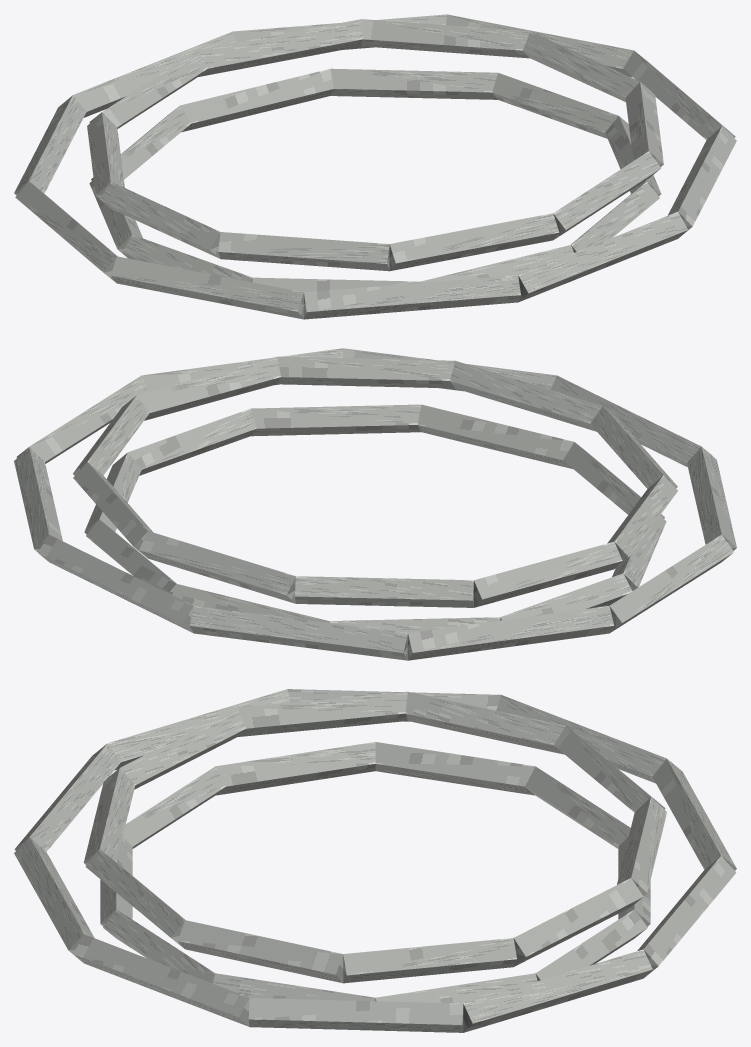
The model's file is mc_wire.glb.
3 renders of one model, top to bottom at view 1: azimuth 30°, elevation 25°; view 2: azimuth 150°, elevation 25°; view 3: azimuth 270°, elevation 25°, orthographic. The views are drawn at different scales.
Parts seen in each view (by area): view 1: block_coiled length1-1, block_coiled length1-2, block_coiled length2-0, block_coiled length2-9, block_coiled length2-5, block_coiled length1-0, block_coiled length0-8, block_coiled length2-4, block_coiled length0-7, block_coiled length0-9, block_coiled length2-1, block_coiled length2-6 (+18 smaller); view 2: block_coiled length1-5, block_coiled length1-4, block_coiled length2-3, block_coiled length2-8, block_coiled length0-1, block_coiled length2-4, block_coiled length0-2, block_coiled length1-6, block_coiled length2-2, block_coiled length2-9, block_coiled length2-7, block_coiled length0-0 (+18 smaller); view 3: block_coiled length1-8, block_coiled length1-7, block_coiled length2-6, block_coiled length1-9, block_coiled length2-1, block_coiled length2-7, block_coiled length0-5, block_coiled length0-4, block_coiled length2-2, block_coiled length2-5, block_coiled length2-0, block_coiled length1-6 (+18 smaller).
Part boxes in pixels (<box>): block_coiled length1-1: <box>304,275,520,319</box>; block_coiled length1-2: <box>110,256,303,319</box>; block_coiled length2-0: <box>218,232,389,271</box>; block_coiled length2-9: <box>389,213,559,270</box>; block_coiled length2-5: <box>361,19,529,58</box>; block_coiled length1-0: <box>518,212,688,302</box>; block_coiled length0-8: <box>330,68,497,99</box>; block_coiled length2-4: <box>198,19,363,76</box>; block_coiled length0-7: <box>180,69,333,132</box>; block_coiled length0-9: <box>492,73,618,138</box>; block_coiled length2-1: <box>100,182,220,258</box>; block_coiled length2-6: <box>523,31,650,101</box>; block_coiled length1-5: <box>189,606,407,660</box>; block_coiled length1-4: <box>408,605,613,660</box>; block_coiled length2-3: <box>295,576,473,607</box>; block_coiled length2-8: <box>277,356,454,388</box>; block_coiled length0-1: <box>251,404,421,436</box>; block_coiled length2-4: <box>139,531,295,603</box>; block_coiled length0-2: <box>417,404,573,468</box>; block_coiled length1-6: <box>38,535,193,633</box>; block_coiled length2-2: <box>474,542,622,607</box>; block_coiled length2-9: <box>450,361,602,431</box>; block_coiled length2-7: <box>137,356,280,420</box>; block_coiled length0-0: <box>128,408,256,475</box>; block_coiled length1-8: <box>248,998,463,1032</box>; block_coiled length1-7: <box>463,949,652,1032</box>; block_coiled length2-6: <box>343,938,516,983</box>; block_coiled length1-9: <box>73,934,249,1026</box>; block_coiled length2-1: <box>237,691,407,736</box>; block_coiled length2-7: <box>178,920,343,983</box>; block_coiled length0-5: <box>375,742,535,795</box>; block_coiled length0-4: <box>215,742,375,795</box>; block_coiled length2-2: <box>405,692,565,754</box>; block_coiled length2-5: <box>513,878,643,966</box>; block_coiled length2-0: <box>107,708,245,789</box>; block_coiled length1-6: <box>637,856,736,977</box>.
Size of the model in its own units: 0.1671 by 0.0181 by 0.1555.
Materials: 1 (1 with a texture image).
